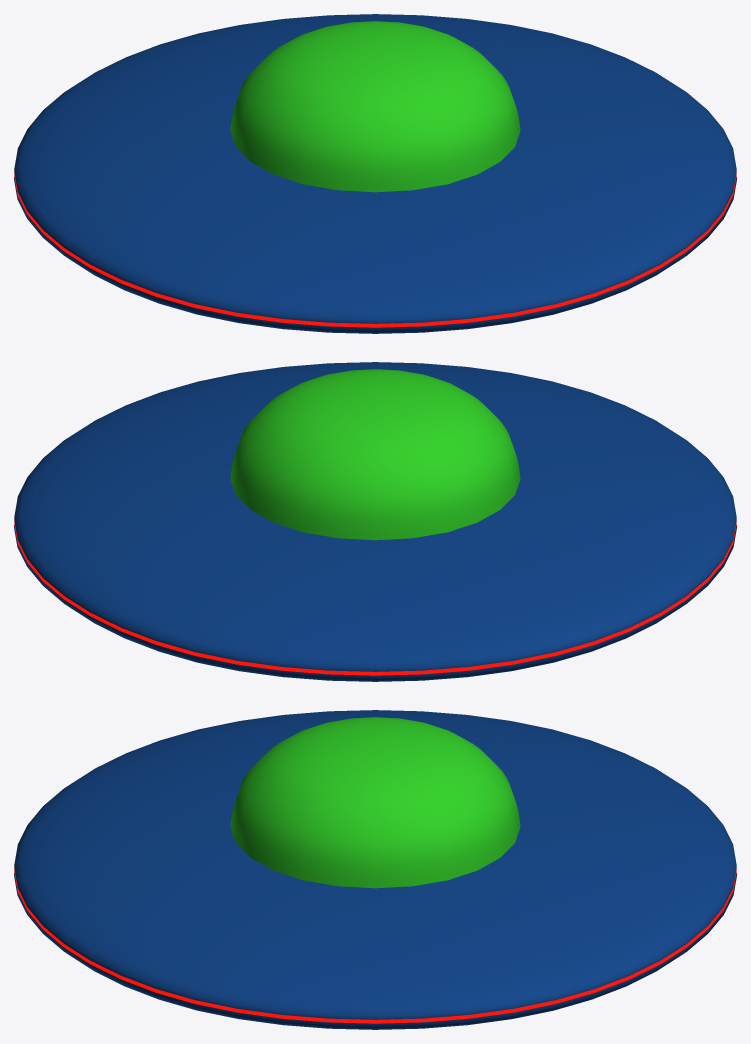
Rendered from alien boss ship.dae.
3 renders of one model, top to bottom at view 1: azimuth 30°, elevation 25°; view 2: azimuth 150°, elevation 25°; view 3: azimuth 270°, elevation 25°, orthographic.
Parts seen in each view (by area): view 1: Body, Dome, laser_bank; view 2: Body, Dome, laser_bank; view 3: Body, Dome, laser_bank.
Part boxes in pixels (x1,y1,x2,y2): Body: (14, 14, 736, 333); Dome: (230, 21, 520, 192); laser_bank: (14, 173, 736, 327); Body: (14, 362, 736, 681); Dome: (230, 369, 520, 540); laser_bank: (14, 521, 736, 675); Body: (14, 710, 736, 1029); Dome: (230, 717, 520, 888); laser_bank: (14, 869, 736, 1023).
Size of the model in its own units: 5.73 by 1.43 by 5.75.
